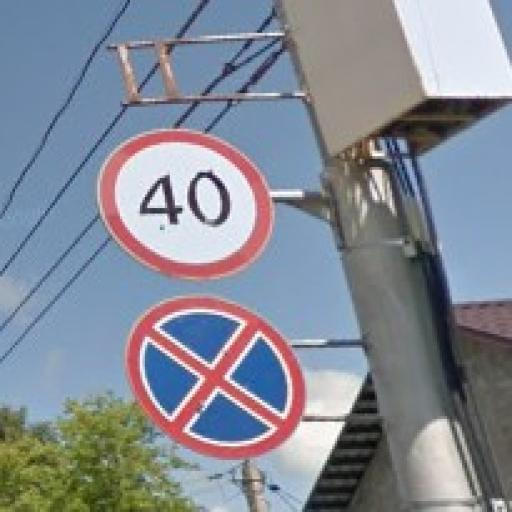traffic_sign: (126, 294, 308, 461), (99, 127, 274, 280)
